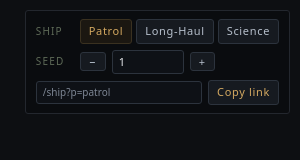
Test: M6-T3 share control › copies the link to the clipboard and confirms
What coordinates should you click on to do the following:
click the button with test id "share-copy"
I would click on:
 (244, 92)
Its box is [208,80,279,104].
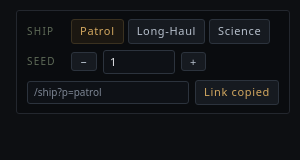
Now the button with test id "share-copy" reads "Link copied", box [195,80,279,104]
